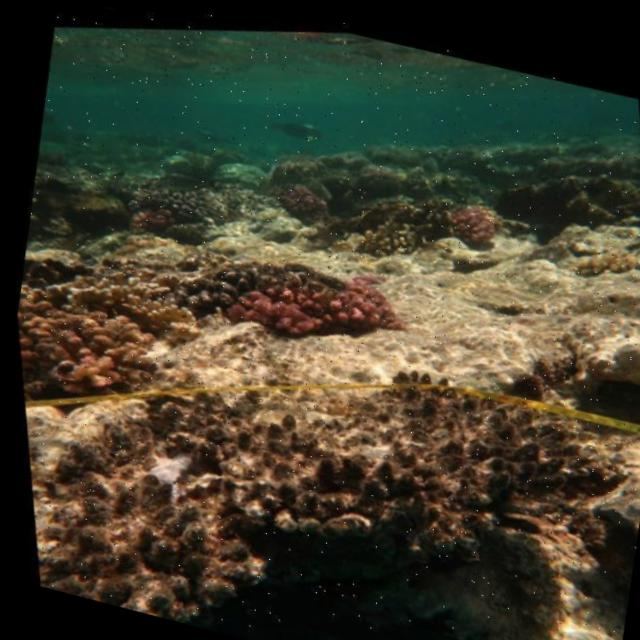Healthy Coral: (50, 304, 608, 590), (26, 475, 233, 631), (204, 239, 412, 380), (440, 192, 495, 250)
